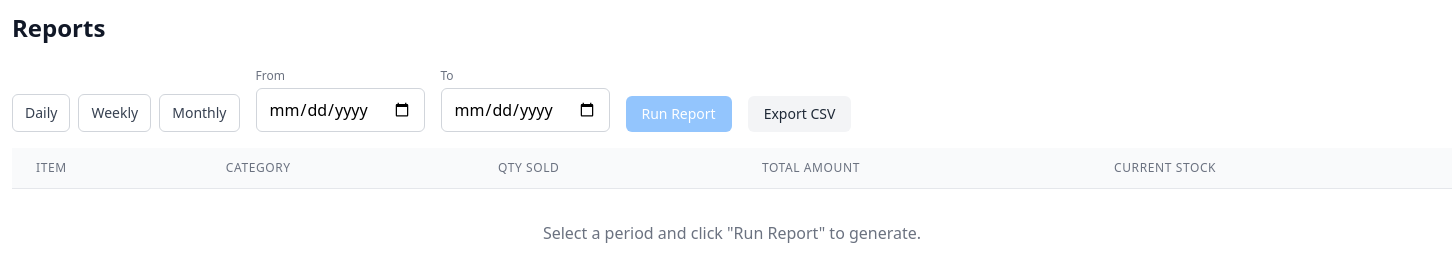
it: ReportsPage › pre-fills dates when preset button is clicked
Click the button with test id "period-daily": {"x": 41, "y": 113} [12, 94, 70, 132]
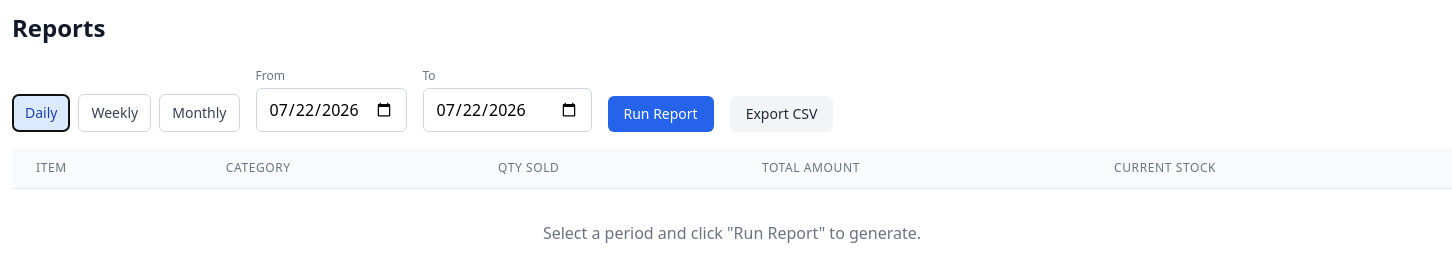
Expected: the date field with test id "filter-date-from" is not empty, [256, 88, 406, 132]
Expected: the date field with test id "filter-date-to" is not empty, [422, 88, 592, 132]
